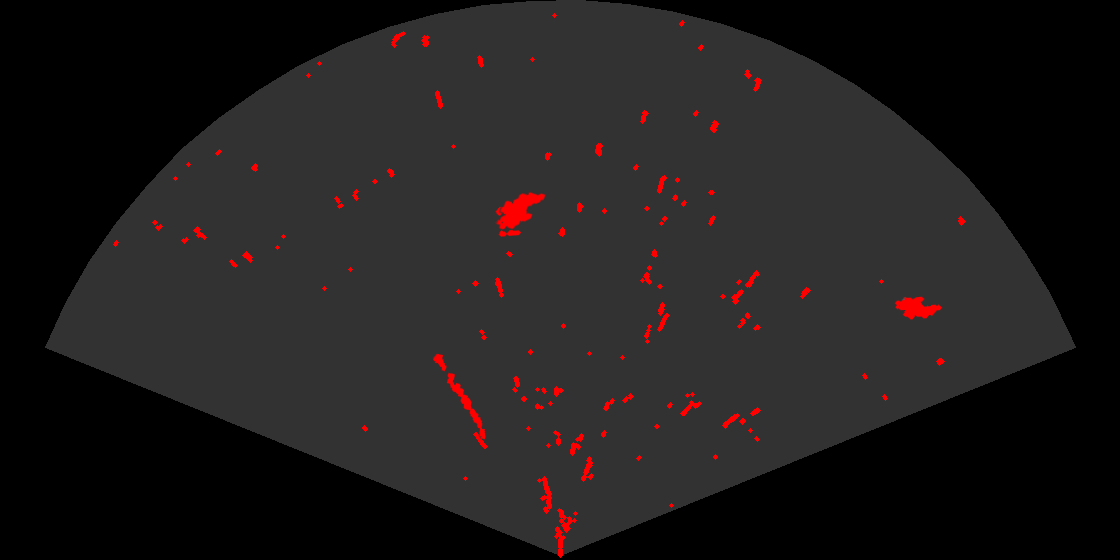AUV: (495, 190, 547, 231), (893, 295, 944, 321)
ball: (494, 204, 525, 238)
chain: (431, 352, 487, 441)
